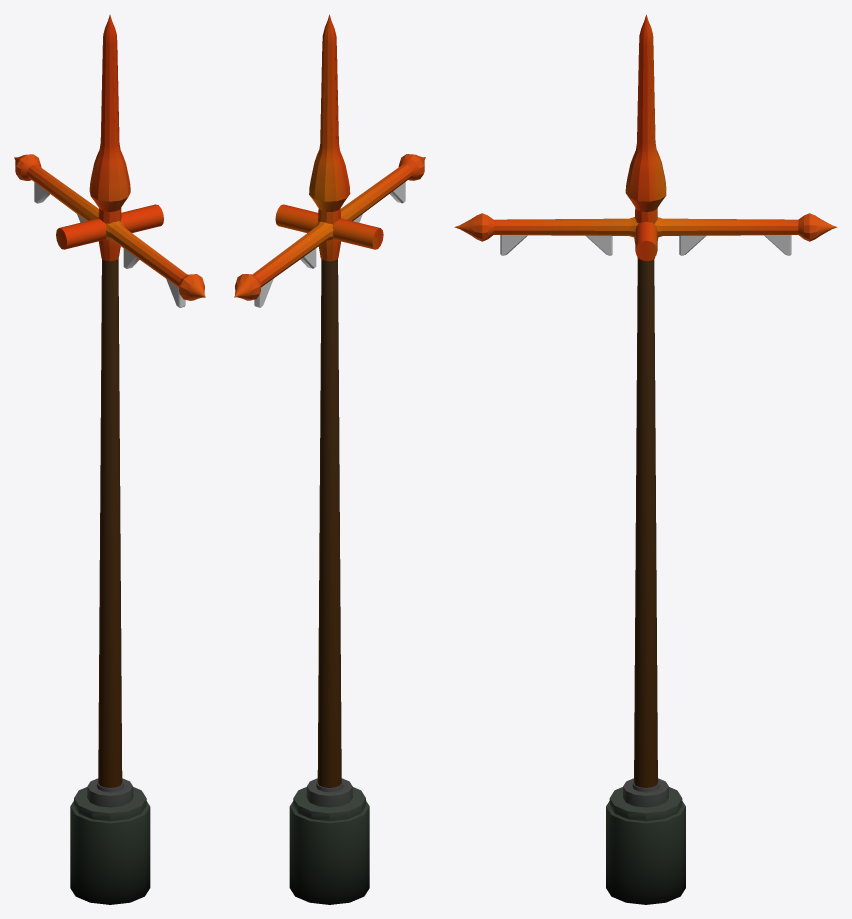
Rendered from flagpole.fbx.
The picture shows the model from 3 angles, left to right: view 1: azimuth 30°, elevation 25°; view 2: azimuth 150°, elevation 25°; view 3: azimuth 270°, elevation 25°; orthographic projection.
Parts seen in each view (by area): view 1: normal2; view 2: normal2; view 3: normal2.
Boxes of the visible parts, x1,y1,x2,y2 form: normal2: (14,14,205,904); normal2: (234,14,425,904); normal2: (454,14,837,904).
Bounding box in the file's own units: 2.8 × 24.12 × 9.6.
